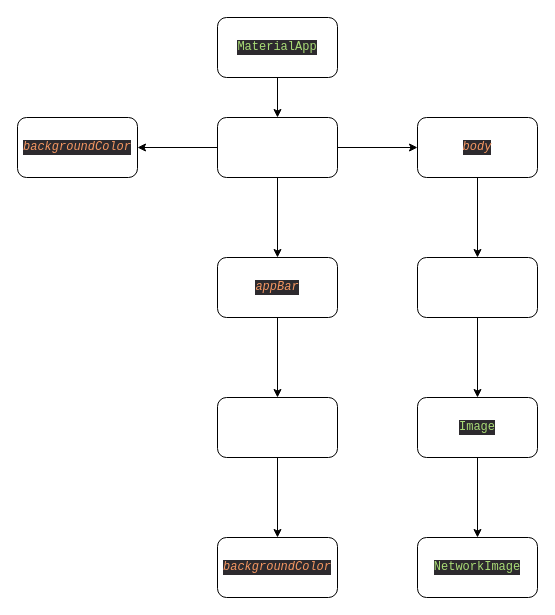
Some shapes in this 555 by 615 pixel diagram are drawn without their labels. Each missing label, with the centre of its shape:
"Center" belongs at point (477, 287).
"Scaffold" belongs at point (277, 147).
"title" belongs at point (277, 427).
